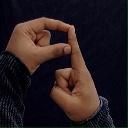hand: (48, 23, 100, 122), (4, 16, 75, 74)
